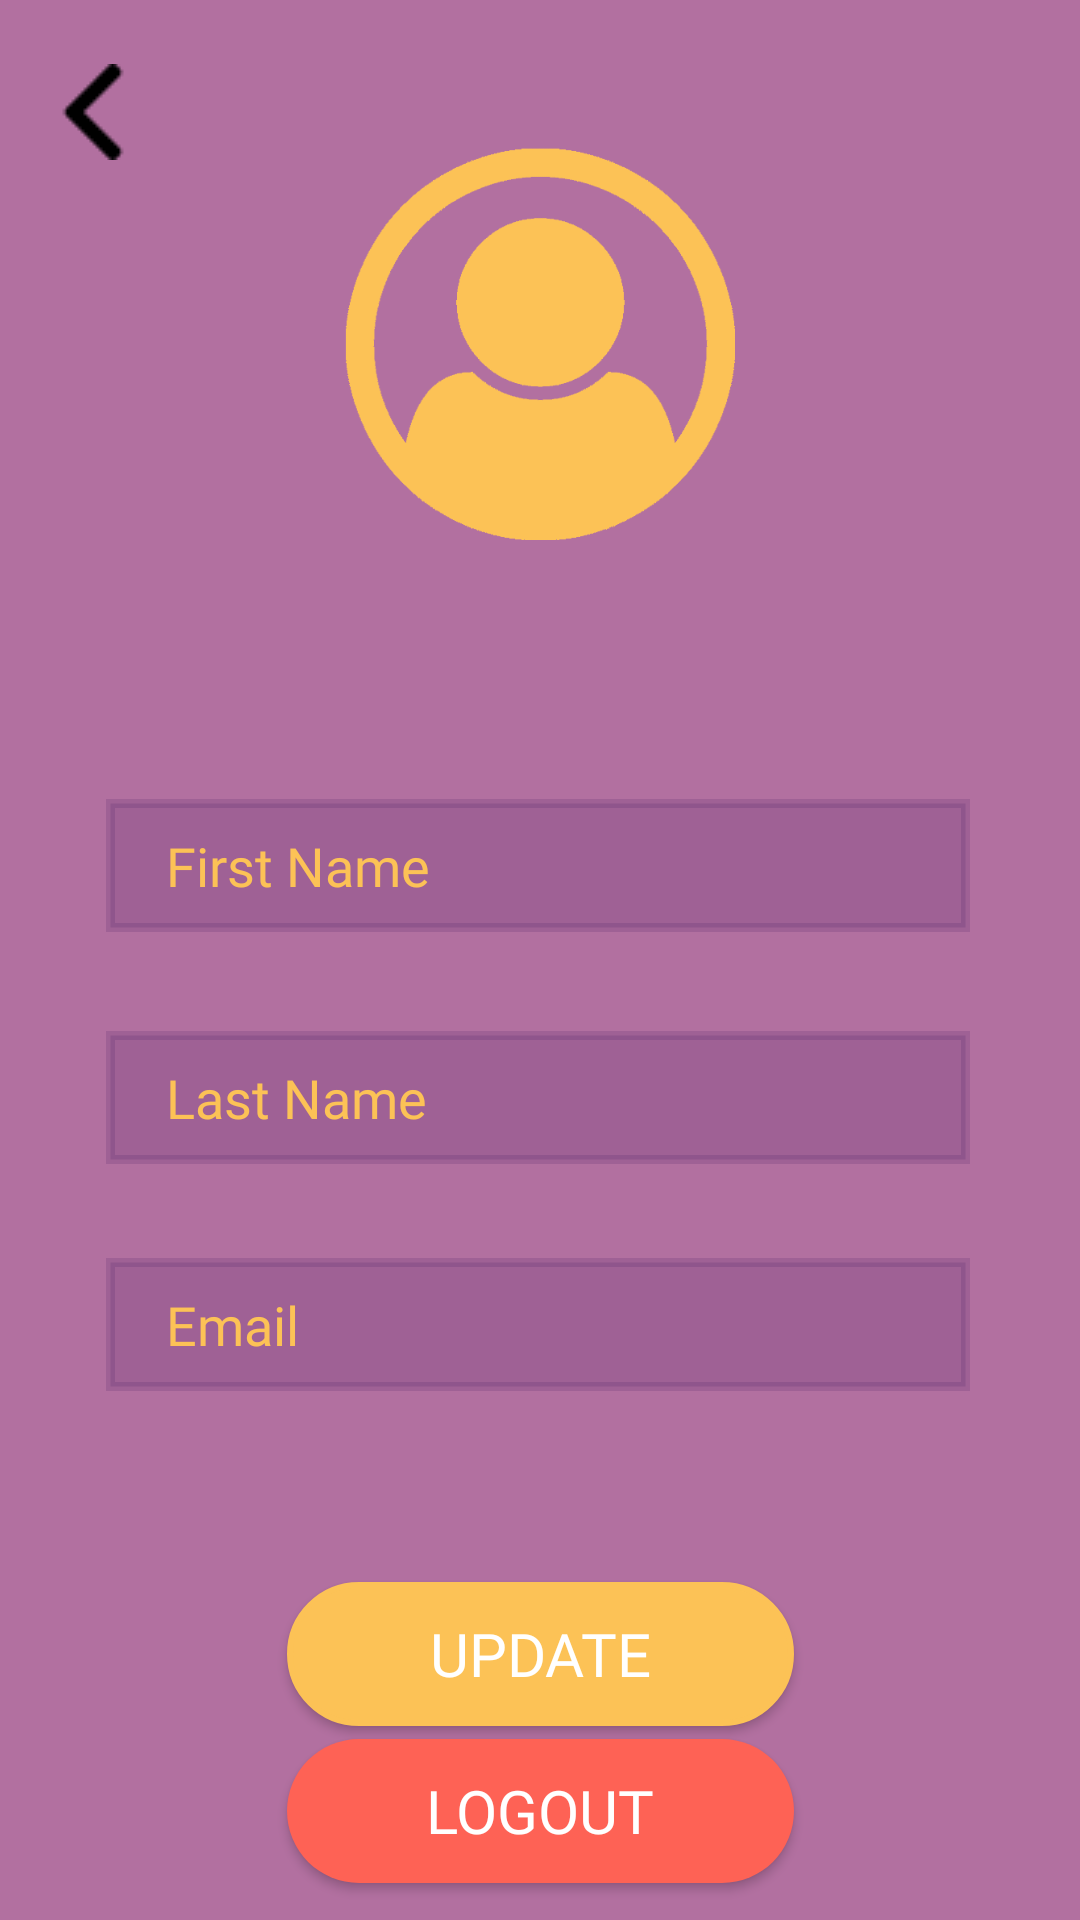

Icon click points for this 1080w x 1920h phone screenshot, format [x,y]:
arrow back: [93,112]
